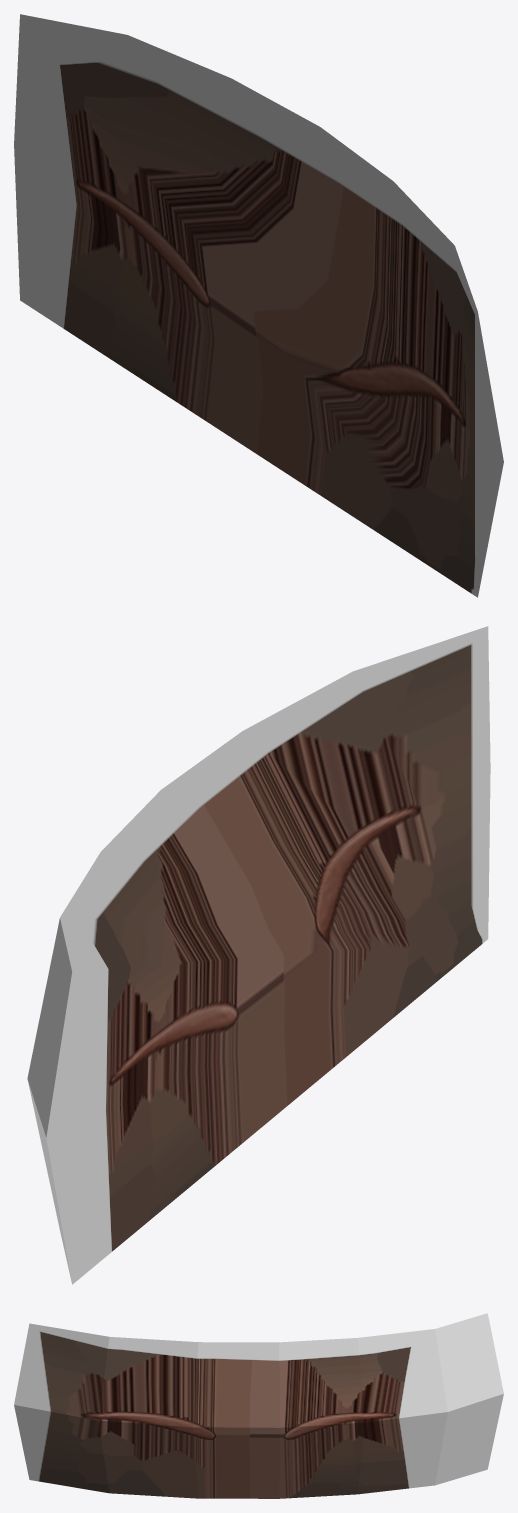
The model's file is eyebrow.fbx.
3 renders of one model, top to bottom at view 1: azimuth 30°, elevation 25°; view 2: azimuth 150°, elevation 25°; view 3: azimuth 270°, elevation 25°, orthographic. The views are drawn at different scales.
Parts seen in each view (by area): view 1: Sphere; view 2: Sphere; view 3: Sphere.
Boxes of the visible parts, x1=… form: Sphere: x1=14, y1=14, x2=503, y2=597; Sphere: x1=27, y1=626, x2=490, y2=1284; Sphere: x1=14, y1=1313, x2=503, y2=1498.
Size of the model in its own units: 7.25 by 14.5 by 41.14.
1 material, 1 textured.
